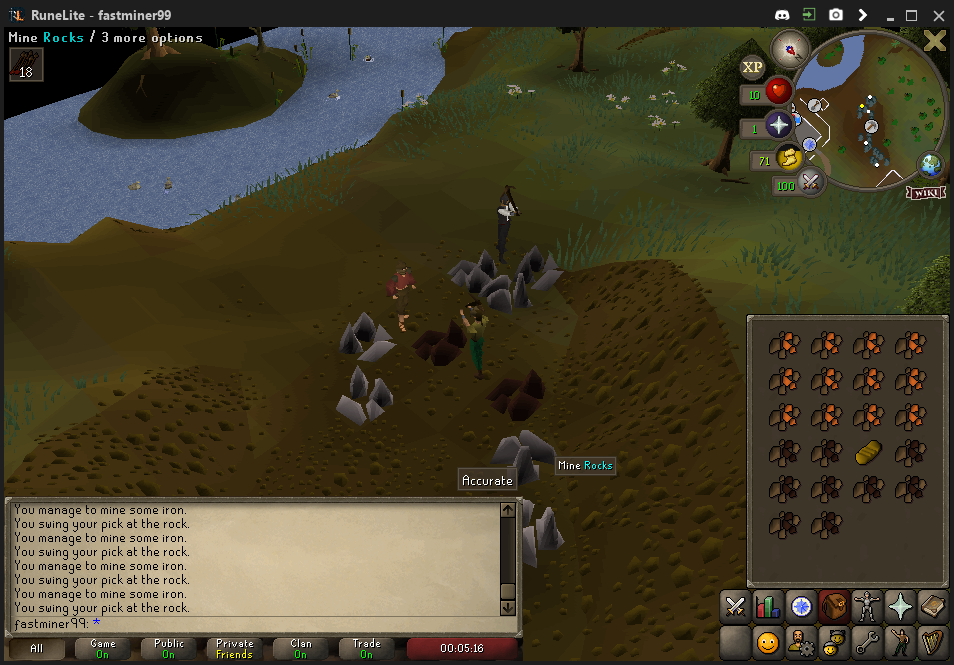ore: (486, 365, 554, 419), (409, 314, 469, 370)
